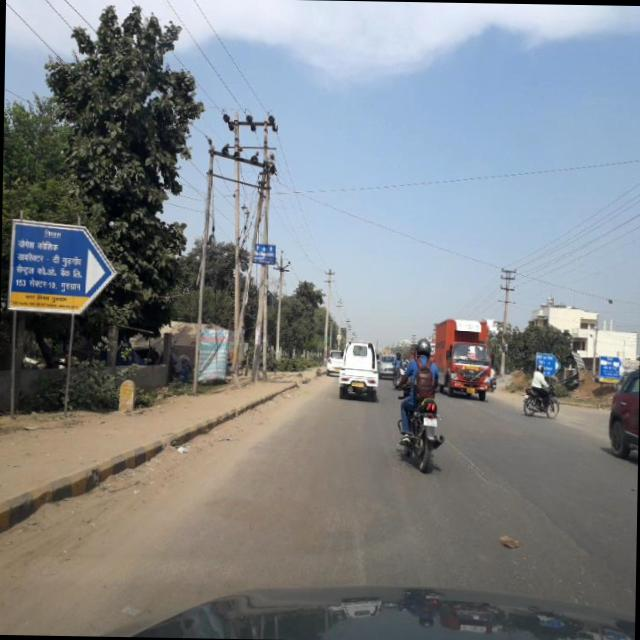crack: (448, 442, 588, 550)
